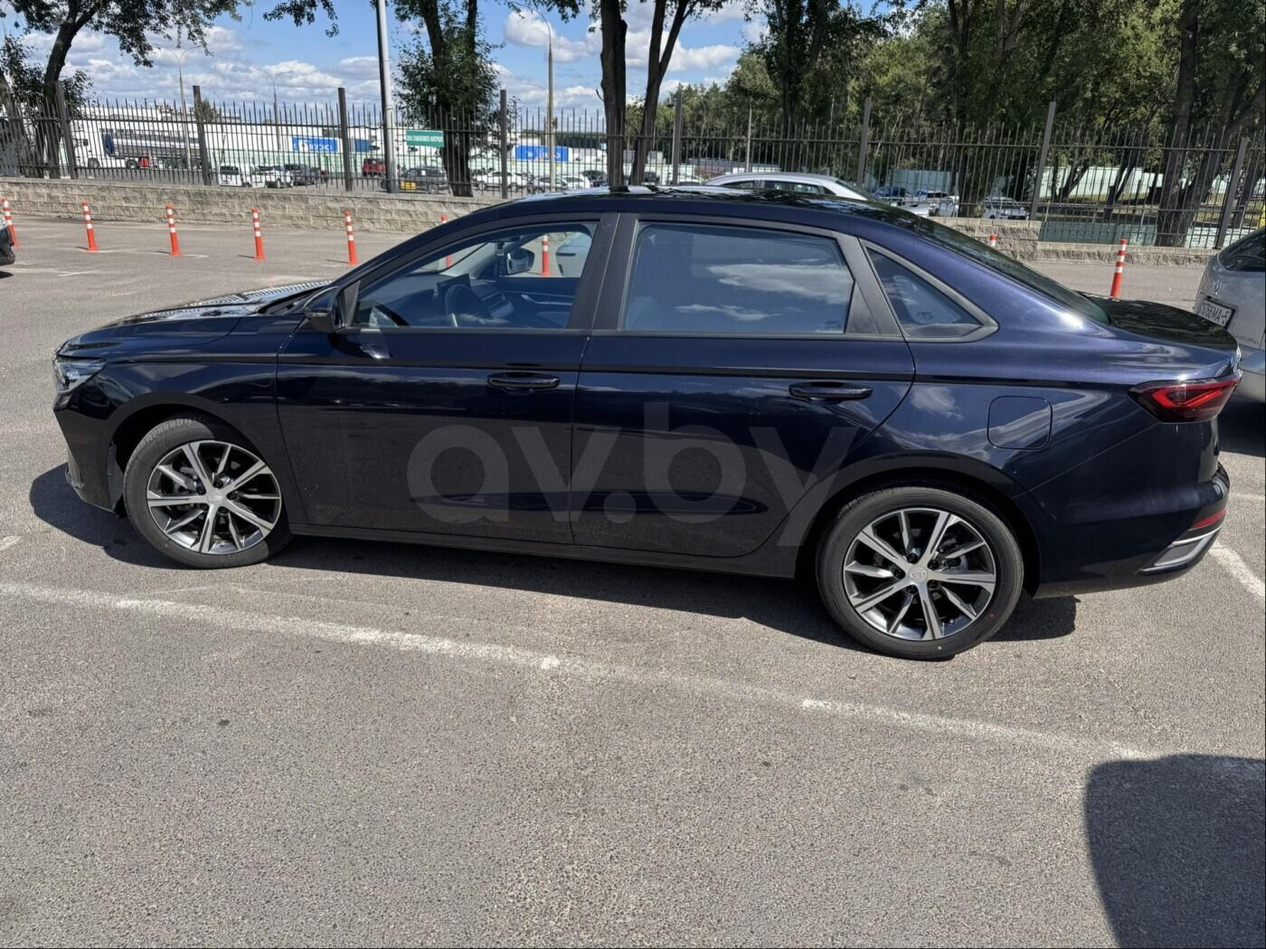Emgrand_2021: (52, 186, 1246, 659)
